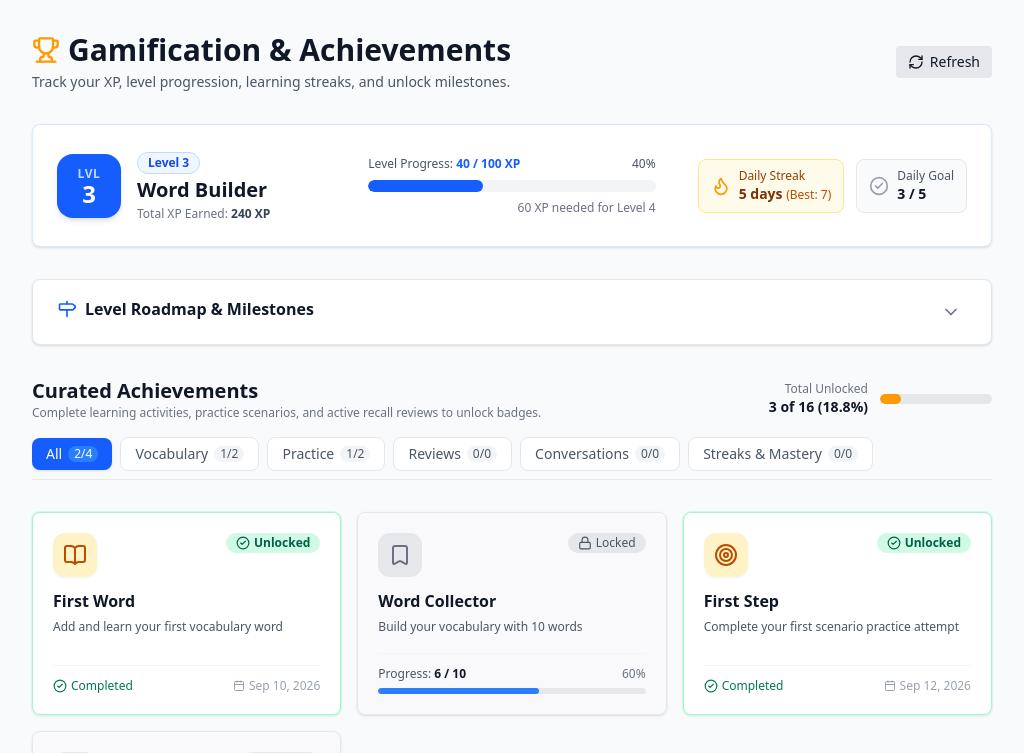
AchievementsPage › filters achievements by category tabs
This screenshot has width=1024, height=753.
Expected: the heading "First Word" is shown, x1=53 y1=590 x2=135 y2=612
Expected: the heading "First Step" is shown, x1=704 y1=590 x2=779 y2=612
# Click "Vocabulary" category
Click the button "Vocabulary 1/2" at point(190, 454), box x1=120 y1=437 x2=259 y2=471
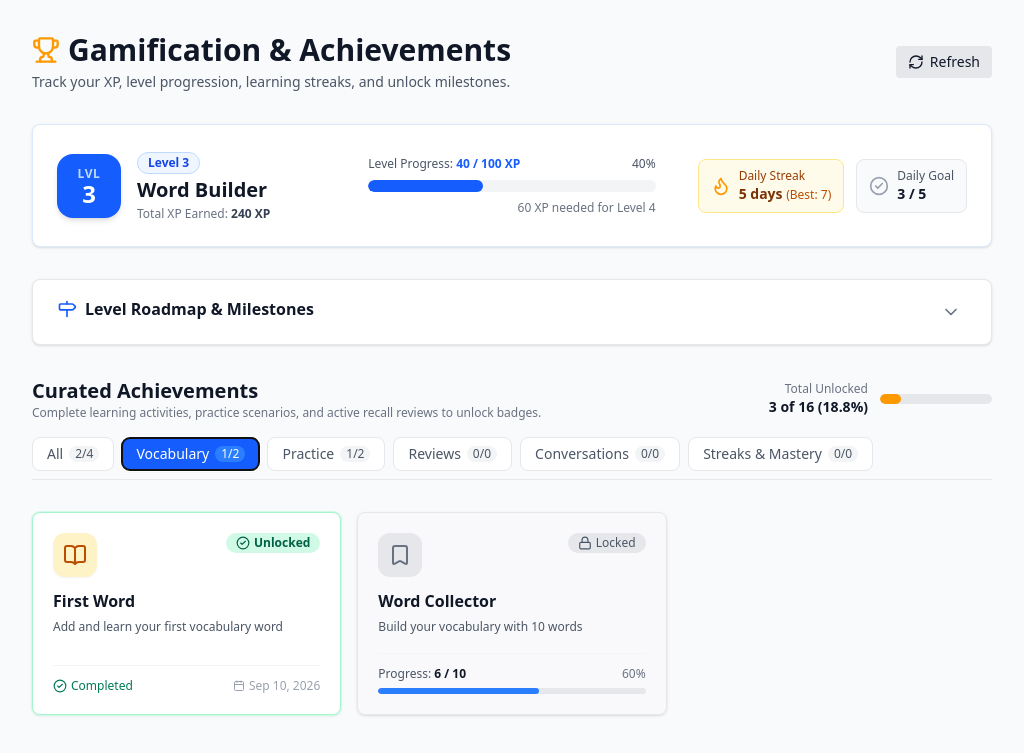
Expected: the heading "First Word" is shown, x1=53 y1=590 x2=135 y2=612
Expected: the heading "First Step" is gone
# Click "Practice" category
Click the button "Practice 1/2" at point(326, 454), box x1=267 y1=437 x2=385 y2=471
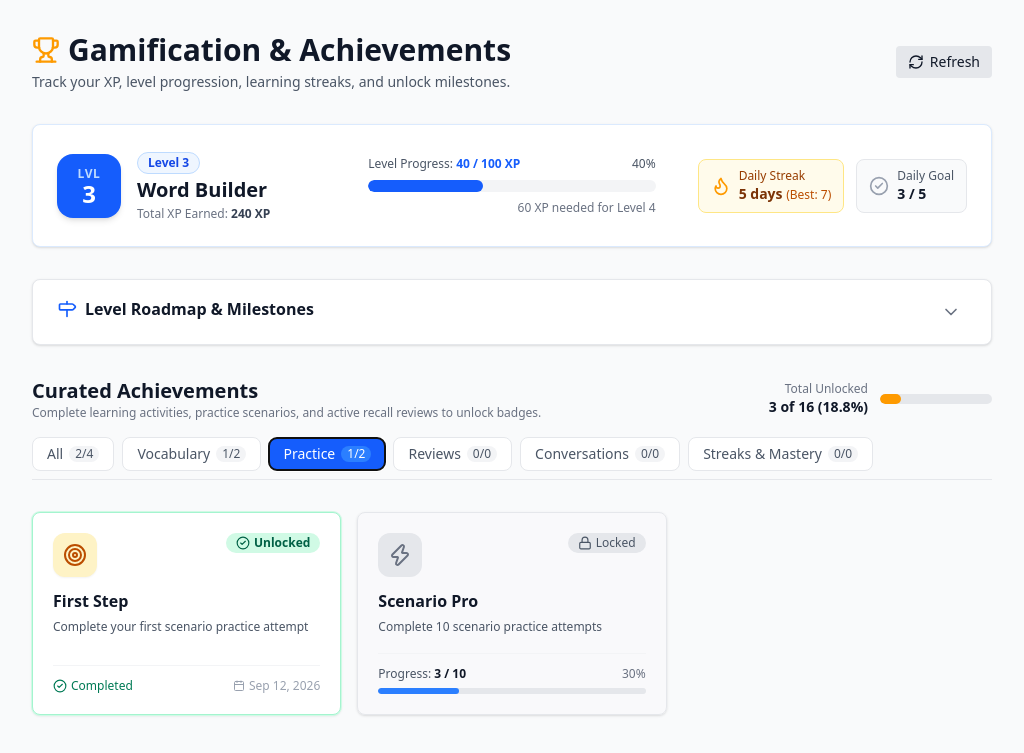
Expected: the heading "First Word" is gone
Expected: the heading "First Step" is shown, x1=53 y1=590 x2=128 y2=612
Expected: the heading "Scenario Pro" is shown, x1=378 y1=590 x2=478 y2=612
